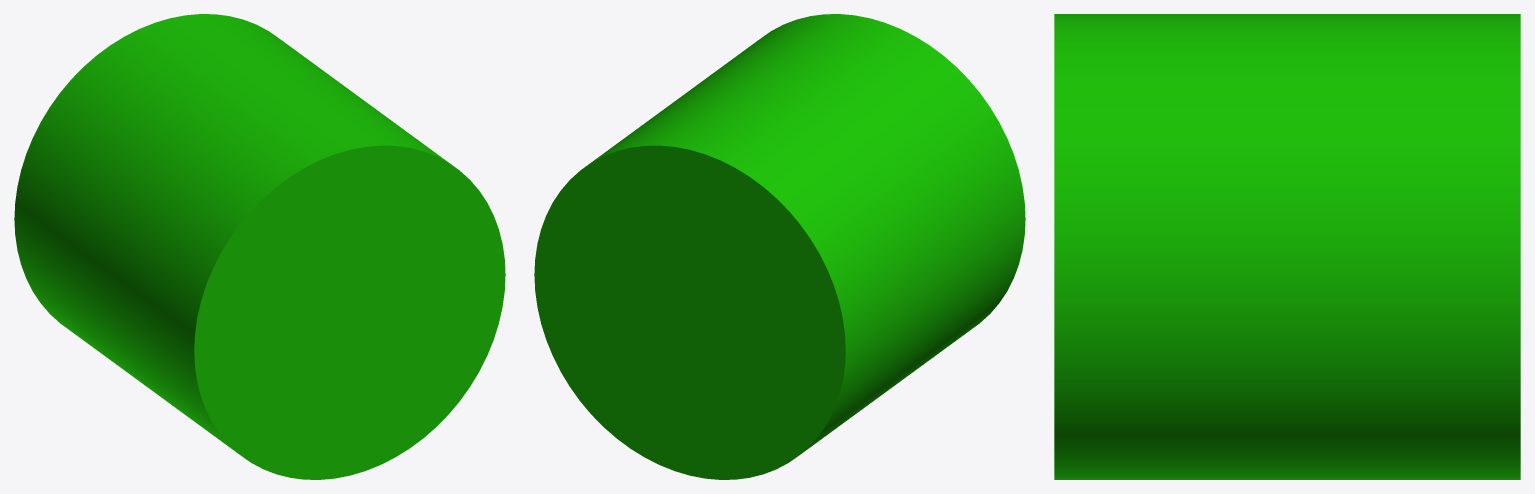
File: goreTorso.fbx
3 views of the same model, side by side, from view 1: azimuth 30°, elevation 25°; view 2: azimuth 150°, elevation 25°; view 3: azimuth 270°, elevation 25° (orthographic). The views are drawn at different scales.
Parts seen in each view (by area): view 1: goreTorso; view 2: goreTorso; view 3: goreTorso.
Part boxes in pixels (left/top/right/bottom): goreTorso: left=14, top=14, right=505, bottom=479; goreTorso: left=534, top=14, right=1025, bottom=479; goreTorso: left=1054, top=14, right=1520, bottom=479.
Bounding box in the file's own units: 2 × 2 × 2.
1 material, 1 textured.
